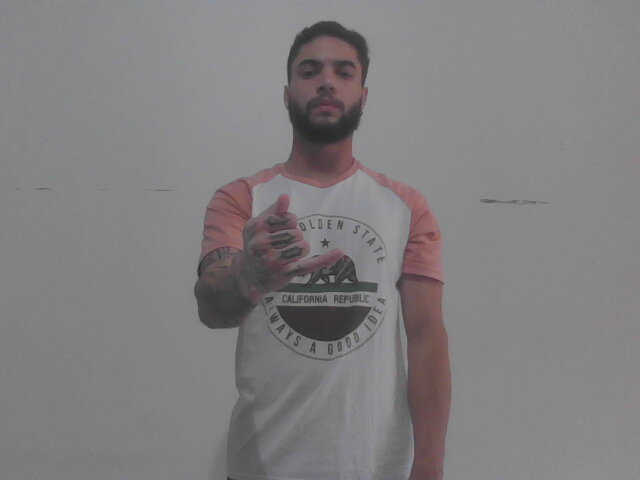j: (234, 187, 344, 297)
